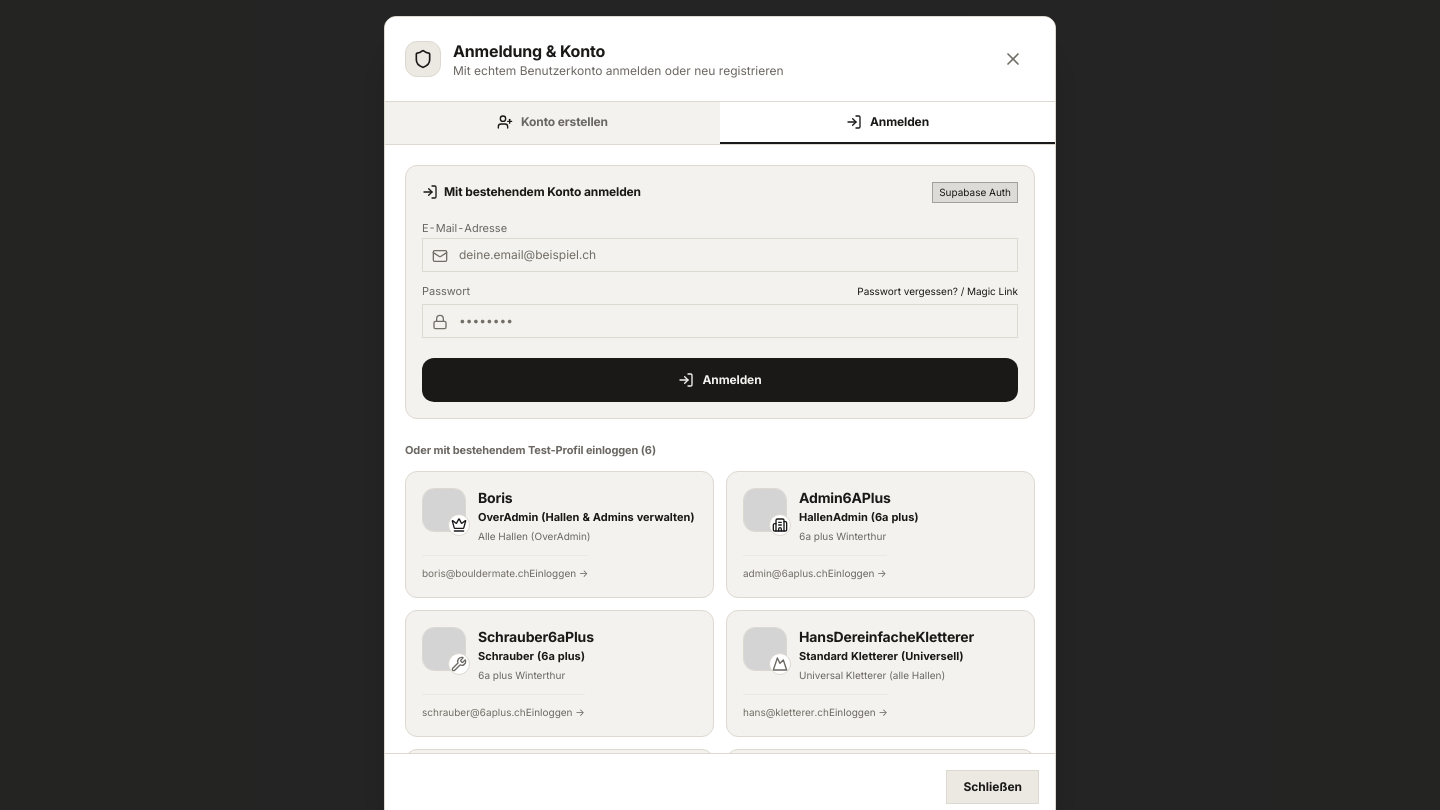
Test: Real User Authentication (Supabase Auth & LoginModal MVP) › LoginModal: UI für Registrierung & Anmeldung › zeigt Fehler bei unvollständigen Eingaben im LoginModal an
Nur E-Mail, kein Passwort
Type "user@climb.ch" into the field with test id "input-login-email" at (720, 255), box [422, 238, 1018, 272]
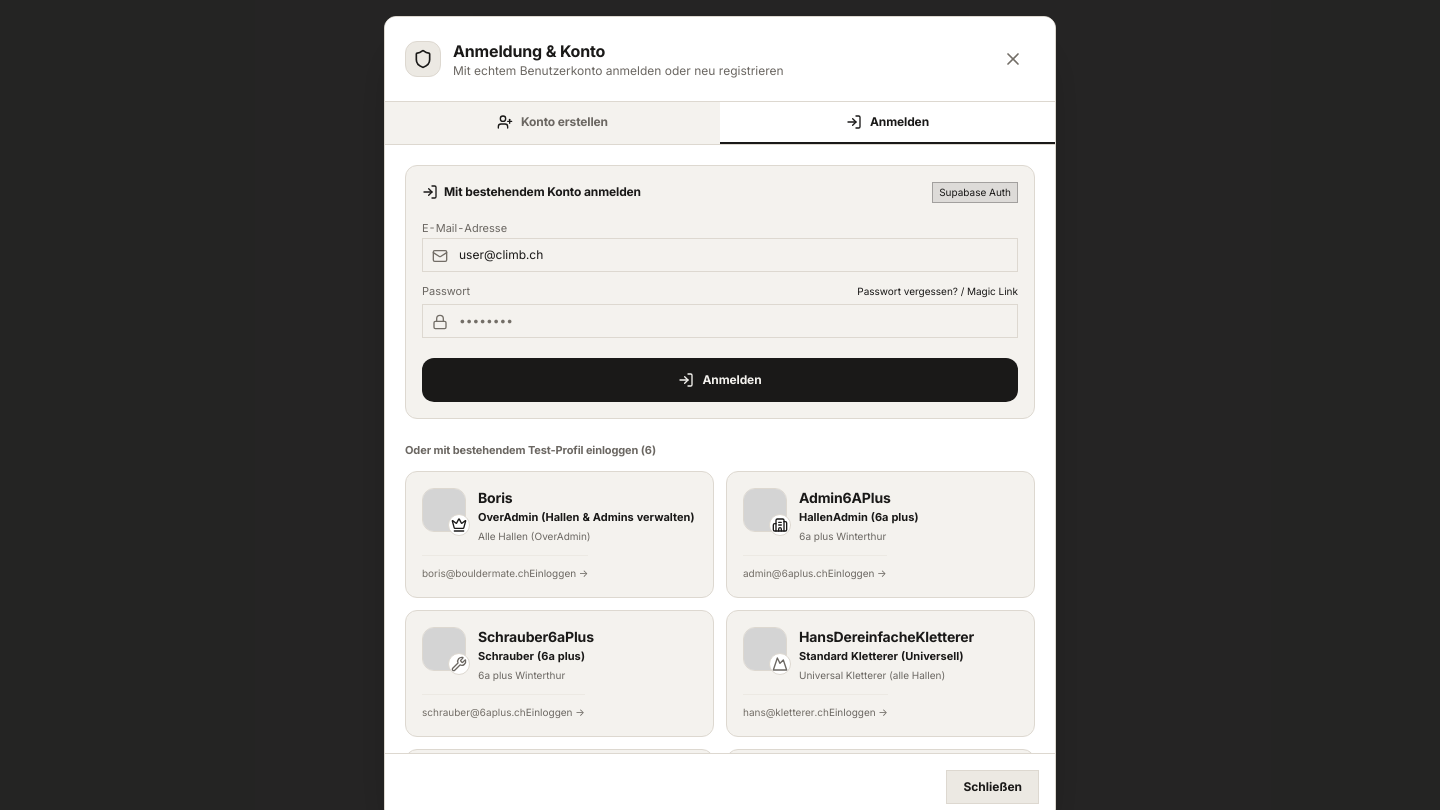
Click the button with test id "btn-login-submit" at (720, 380), box [422, 358, 1018, 402]
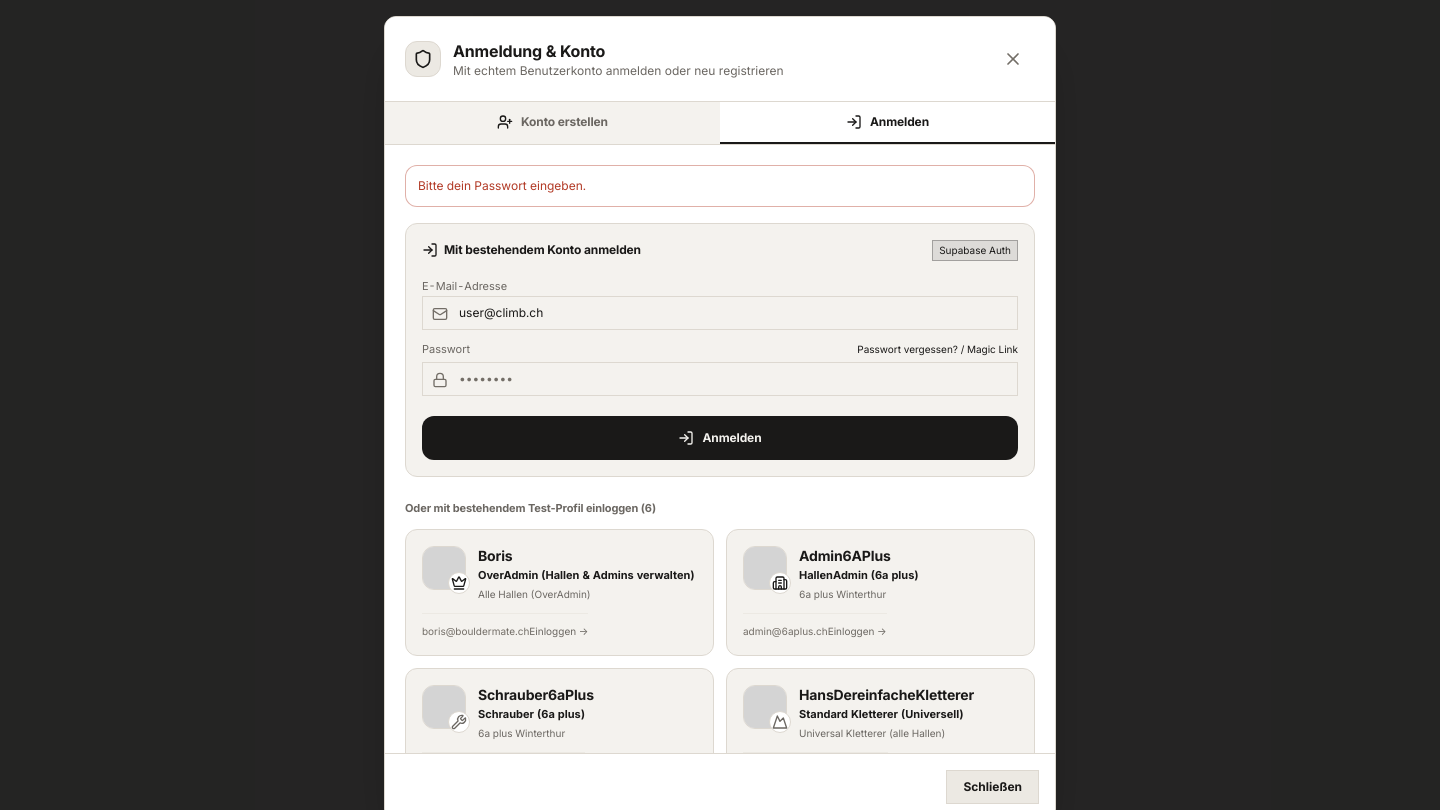
expect the element with test id "register-error-msg" shows "Passwort eingeben": met, box [418, 178, 586, 193]
